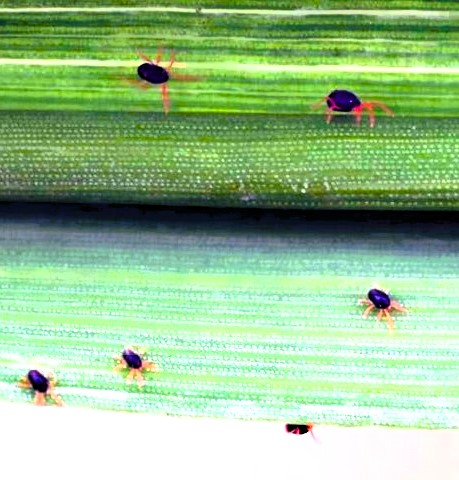Wheat Red Spider: (305, 86, 398, 133), (355, 278, 411, 338)
